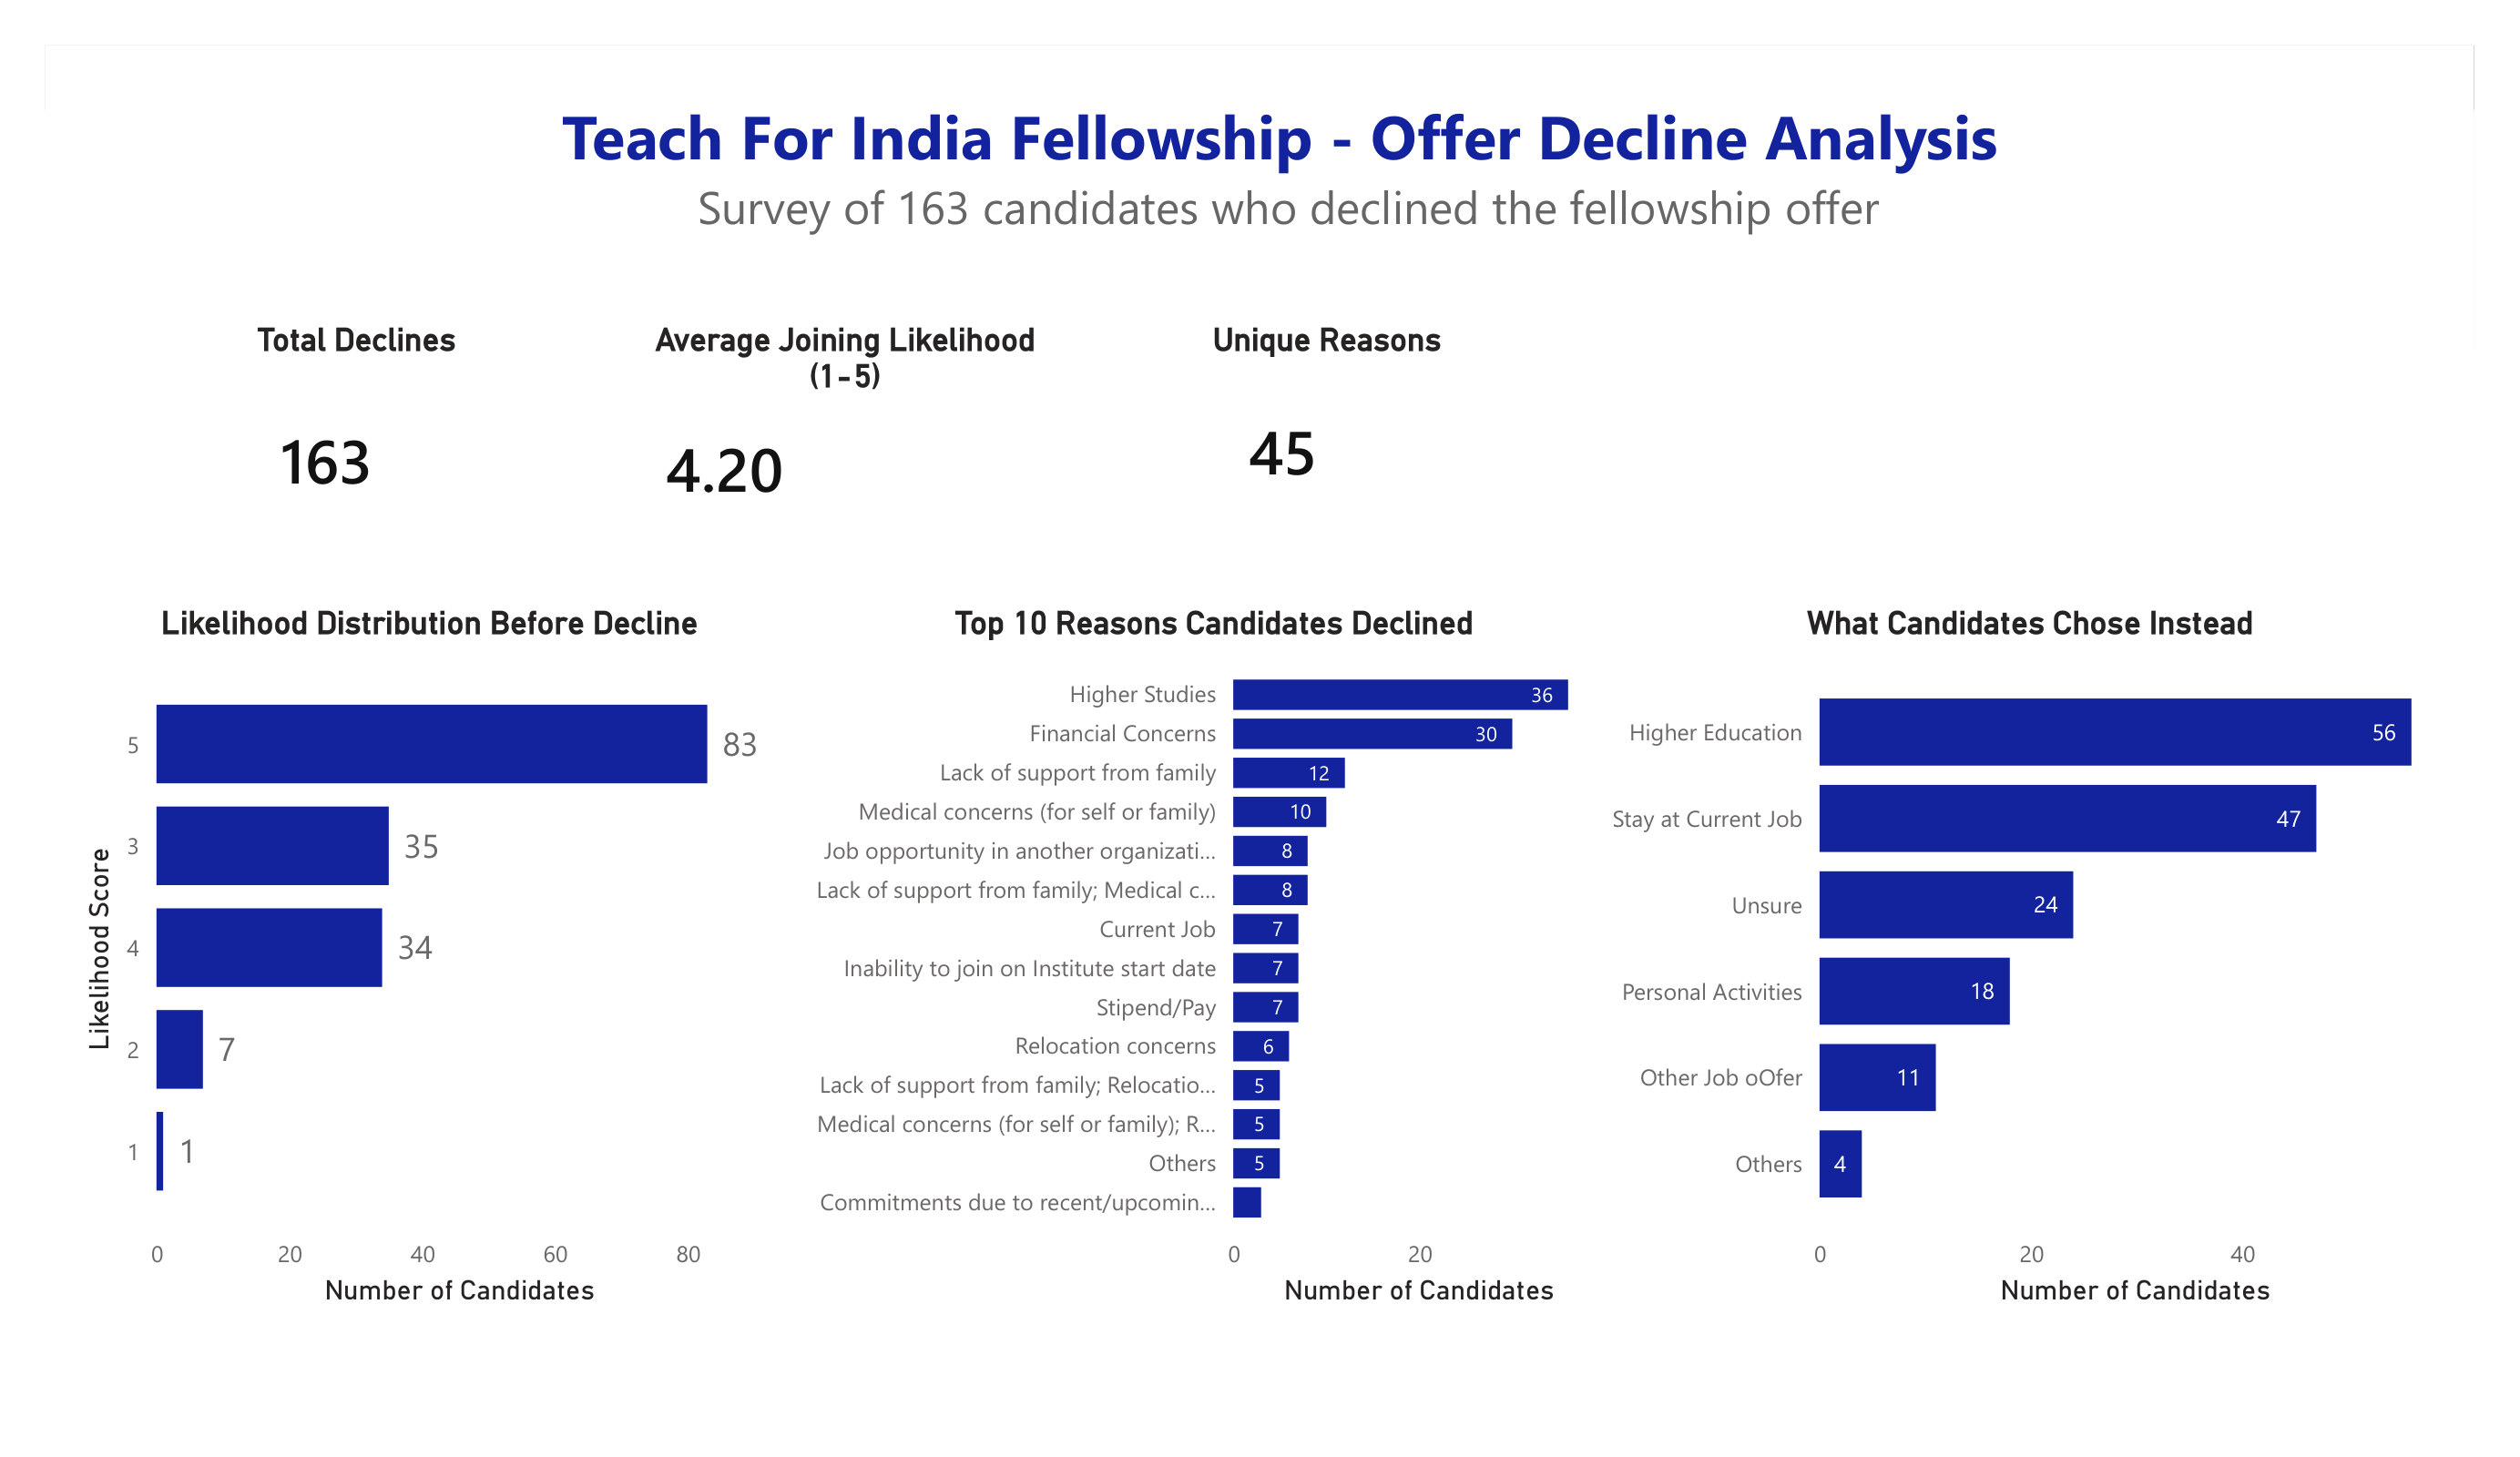

This screenshot's page, from the dashboard's own definition file:
{"tool":"powerbi","page":{"name":"Executive Summary","canvas":[1280,720],"ordinal":0},"visuals":[{"type":"cardVisual","title":"Total Declines","fields":{"Data":["Sum(Decline reasons.candidate_count)"]},"box":[95,145,137.5,122.5],"z":0},{"type":"cardVisual","title":"Unique Reasons","fields":{"Data":["Alternate Paths.Unique Decline Reasons"]},"box":[605,145,141.2,112.5],"z":1000},{"type":"cardVisual","title":"Average Joining Likelihood (1-5)","fields":{"Data":["Alternate Paths.Average_Joining_Likelihood"]},"box":[297.5,145,247.5,112.5],"z":2000},{"type":"clusteredBarChart","title":"Top 10 Reasons Candidates Declined","fields":{"Category":["clean_decline_survey.Shortened_reason"],"Y":["CountNonNull(clean_decline_survey.candidate_id_number)"]},"box":[389.5,294.2,452.3,374.4],"z":3000},{"type":"clusteredBarChart","title":"What Candidates Chose Instead","fields":{"Category":["clean_decline_survey.Shortened_Alternative_Path"],"Y":["CountNonNull(clean_decline_survey.candidate_id_number)"]},"box":[811.6,294.2,468.6,374.4],"z":4000},{"type":"textbox","box":[66.2,20,1177.5,105],"z":5000},{"type":"clusteredBarChart","title":"Likelihood Distribution Before Decline","fields":{"Category":["clean_decline_survey.initial_joining_likelihood"],"Y":["CountNonNull(clean_decline_survey.candidate_id_number)"]},"box":[15.1,294.2,374.4,374.4],"z":6000}]}

Visuals, with their boxes on the page's 1280x720 design canvas (x1, y1, x2, y2). These are canvas units, not pixel positions in the 2520x1457 screenshot, which may show the page scaled, cropped or inside an application window:
"Total Declines" cardVisual: 95/145/232/268
"Unique Reasons" cardVisual: 605/145/746/258
"Average Joining Likelihood (1-5)" cardVisual: 298/145/545/258
"Top 10 Reasons Candidates Declined" clusteredBarChart: 390/294/842/669
"What Candidates Chose Instead" clusteredBarChart: 812/294/1280/669
textbox: 66/20/1244/125
"Likelihood Distribution Before Decline" clusteredBarChart: 15/294/390/669
